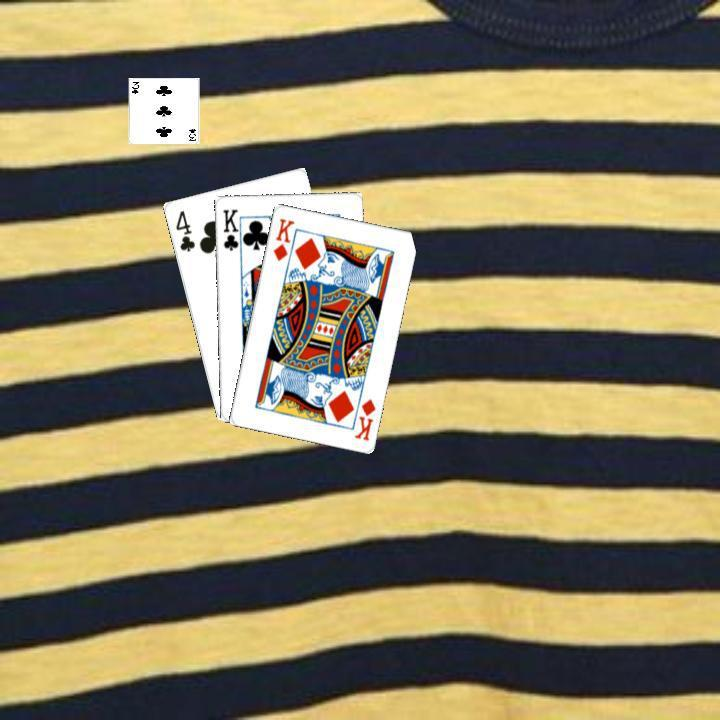4: (171, 206, 197, 254)
K: (268, 213, 296, 263), (350, 394, 378, 442), (218, 205, 244, 256)
